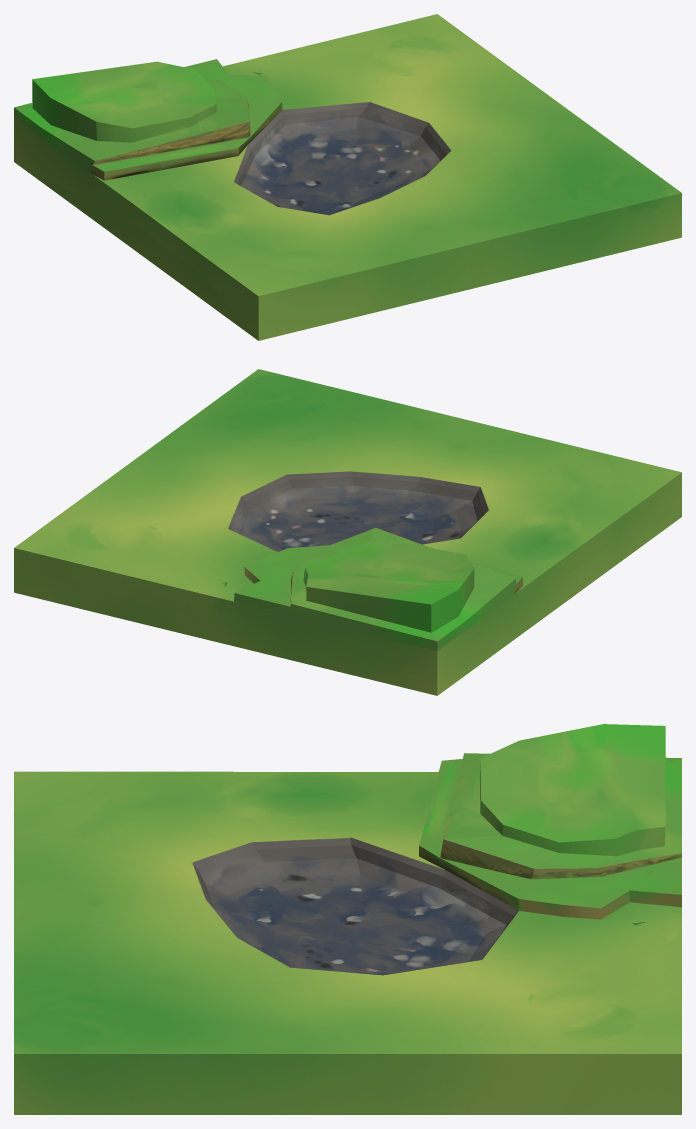
Rendered from Environment_ground v2.obj.
3 views of the same model, one above another, from view 1: azimuth 30°, elevation 25°; view 2: azimuth 150°, elevation 25°; view 3: azimuth 270°, elevation 25° (orthographic). The views are drawn at different scales.
Parts seen in each view (by area): view 1: Ground, Hill; view 2: Ground, Hill; view 3: Ground, Hill.
Boxes of the visible parts, box(x1,y1,x2,y2) form: Ground: box(14, 14, 681, 340); Hill: box(14, 59, 282, 180); Ground: box(14, 369, 681, 695); Hill: box(234, 527, 522, 651); Ground: box(14, 771, 681, 1114); Hill: box(419, 724, 681, 919).
Bounding box in the file's own units: 1 × 0.1898 × 1.
Materials: 2 (2 with a texture image).
